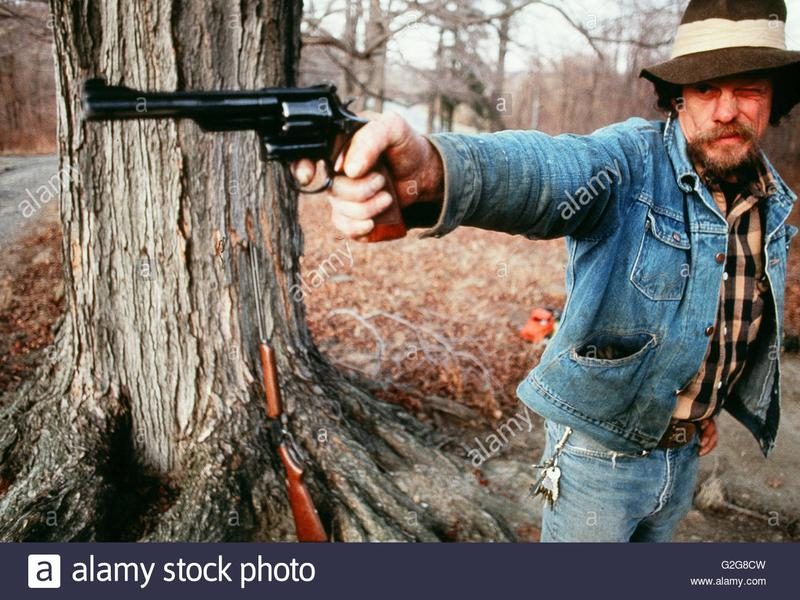Revolver: (82, 62, 405, 243)
